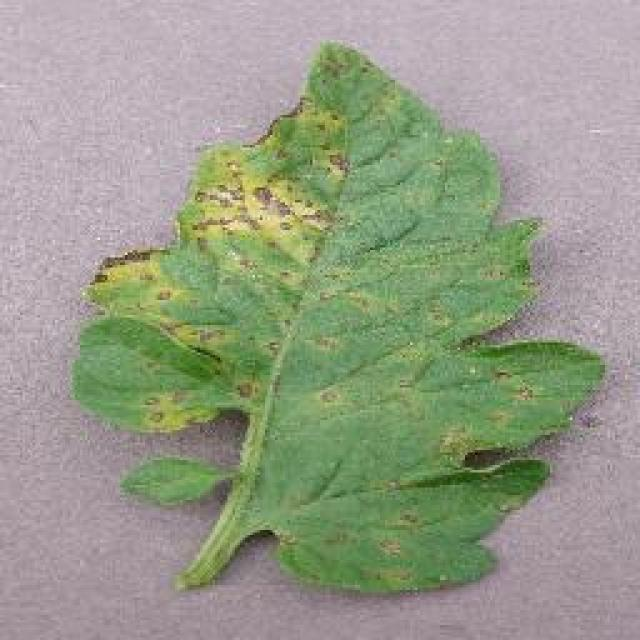Tomato___Septoria_leaf_spot: (72, 42, 602, 590)
